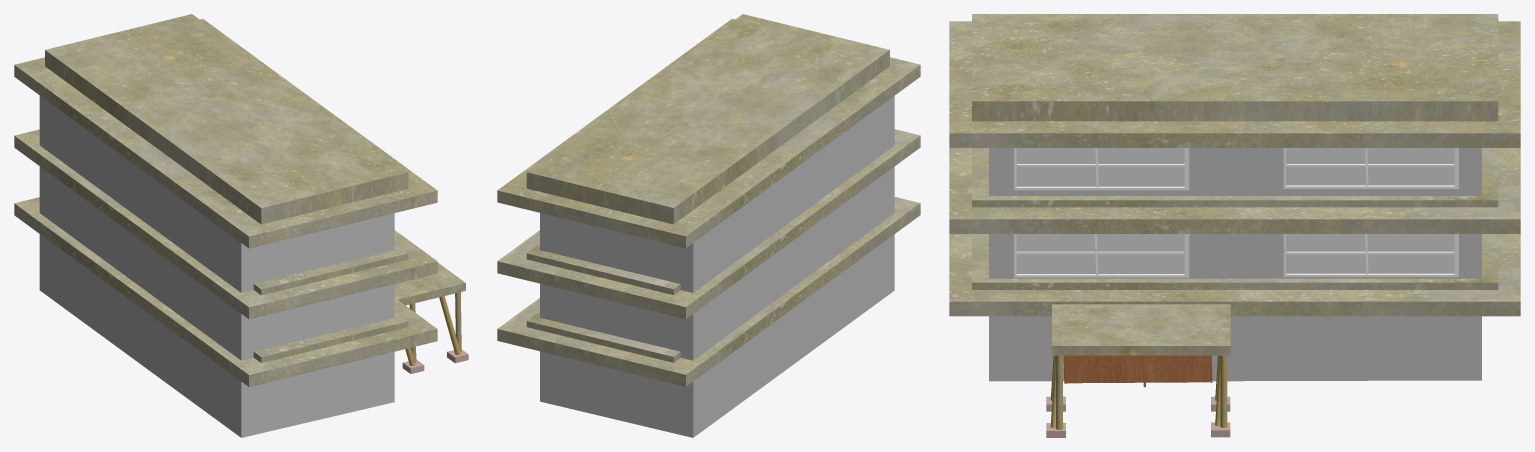
Rendered from Building_ONE_Val.fbx.
3 views of the same model, side by side, from view 1: azimuth 30°, elevation 25°; view 2: azimuth 150°, elevation 25°; view 3: azimuth 270°, elevation 25° (orthographic). The views are drawn at different scales.
Parts seen in each view (by area): view 1: base, pCube38, pCube37, pCube26, pCube30; view 2: base, pCube38, pCube37, pCube26; view 3: pCube38, base, pCube37, pCube26, pCube30, window8, window5, window7, window6, doors, window9, window1 (+1 smaller).
Part boxes in pixels (x1,y1,x2,y2): base: (39, 95, 394, 437); pCube38: (14, 14, 437, 248); pCube37: (14, 129, 437, 319); pCube26: (14, 197, 437, 386); pCube30: (394, 262, 465, 305); base: (540, 96, 894, 437); pCube38: (497, 14, 920, 248); pCube37: (497, 129, 920, 318); pCube26: (497, 197, 920, 386); pCube38: (949, 14, 1520, 147); base: (989, 148, 1481, 381); pCube37: (949, 148, 1520, 233); pCube26: (949, 234, 1520, 316); pCube30: (1052, 304, 1230, 355); window8: (1014, 234, 1189, 277); window5: (1014, 148, 1189, 190); window7: (1283, 234, 1458, 276); window6: (1283, 148, 1458, 188); doors: (1067, 355, 1210, 383); window9: (1286, 251, 1454, 254); window1: (1016, 251, 1183, 254).
Size of the model in its own units: 8.84 by 7.66 by 13.86.
